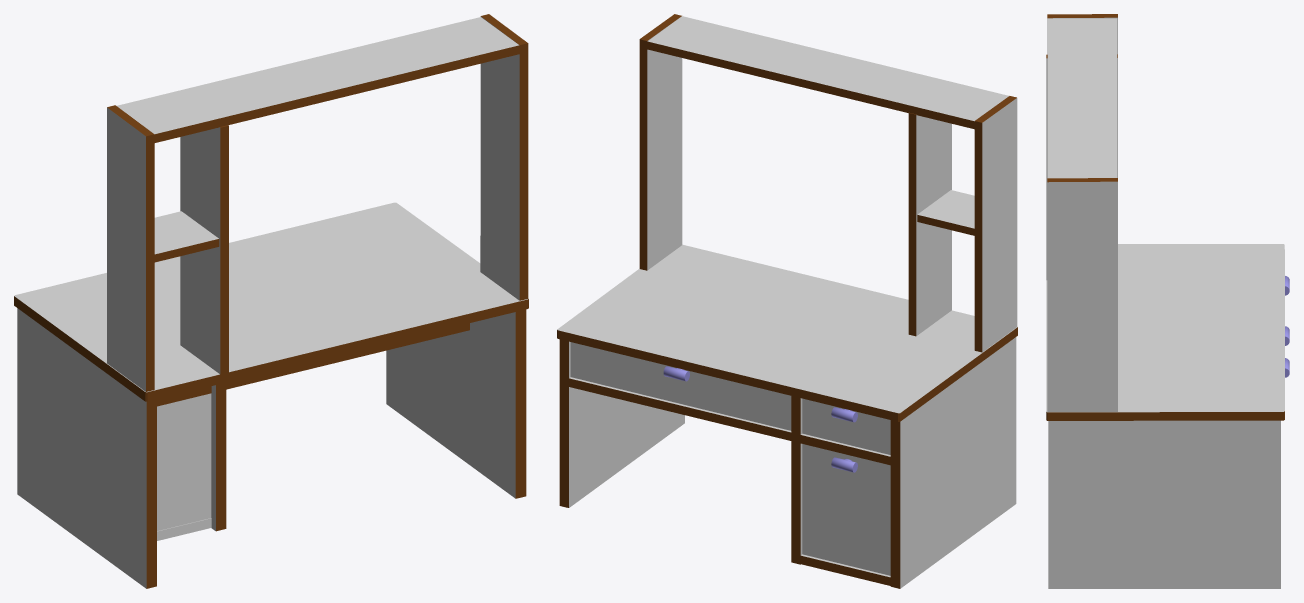
The model's file is table_tier9.fbx.
The picture shows the model from 3 angles, left to right: view 1: azimuth 30°, elevation 25°; view 2: azimuth 150°, elevation 25°; view 3: azimuth 270°, elevation 25°; orthographic projection. The views are drawn at different scales.
Visible parts, largest first — view 1: Cube.002, Cube.010; view 2: Cube.002, Cube.008, Cube.006, Cube.007; view 3: Cube.002.
Boxes of the visible parts, <box> form: Cube.002: <box>14,14,528,588</box>; Cube.010: <box>157,393,211,530</box>; Cube.002: <box>557,14,1017,588</box>; Cube.008: <box>802,444,890,575</box>; Cube.006: <box>570,342,791,430</box>; Cube.007: <box>802,398,890,454</box>; Cube.002: <box>1046,14,1284,588</box>.
Size of the model in its own units: 181 by 205 by 111.
